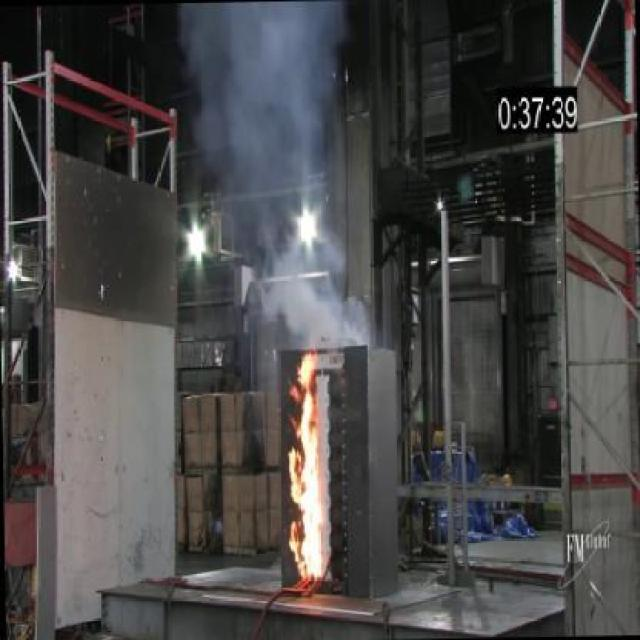fire: (176, 0, 376, 343)
smoke: (280, 343, 328, 583)
